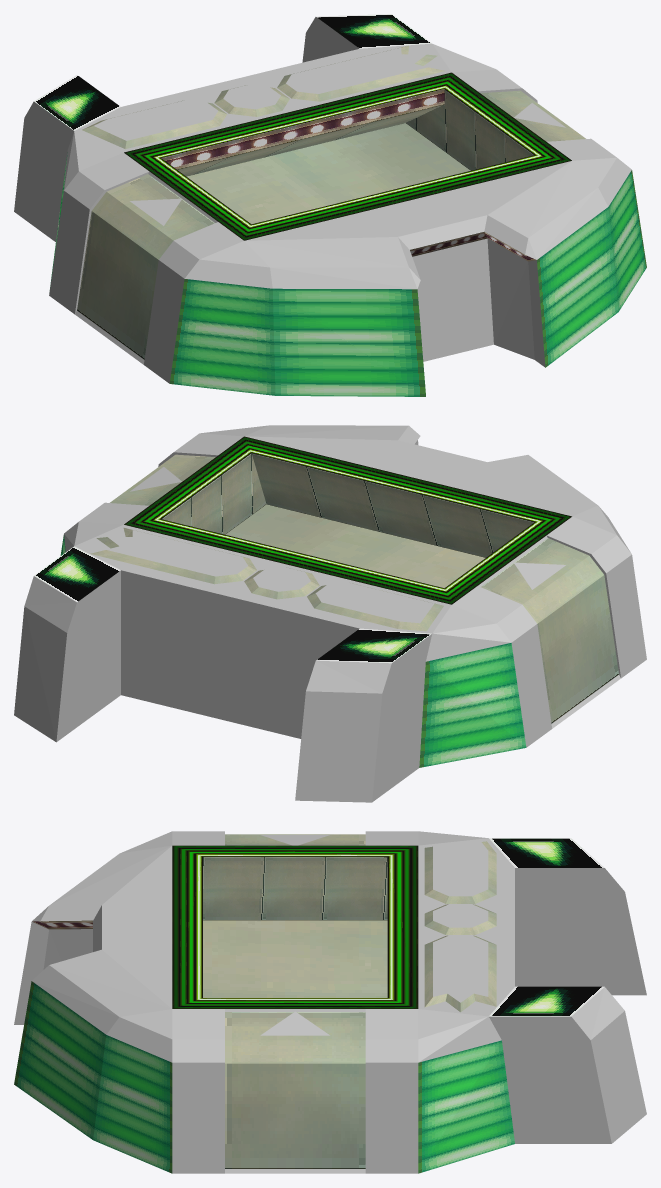
Rendered from slotmachine_off.obj.
3 renders of one model, top to bottom at view 1: azimuth 30°, elevation 25°; view 2: azimuth 150°, elevation 25°; view 3: azimuth 270°, elevation 25°, orthographic. The views are drawn at different scales.
Parts seen in each view (by area): view 1: slot1, slot2, sides_off, jackpot, bet; view 2: slot1, slot2, sides_off, jackpot, bet; view 3: slot1, slot2, sides_off, jackpot, bet.
Part boxes in pixels (<box>): slot1: <box>34,14,646,396</box>; slot2: <box>14,43,631,383</box>; sides_off: <box>77,90,585,359</box>; jackpot: <box>311,47,427,89</box>; bet: <box>94,105,192,140</box>; slot1: <box>34,436,620,767</box>; slot2: <box>14,425,646,802</box>; sides_off: <box>110,454,618,723</box>; jackpot: <box>106,530,221,571</box>; bet: <box>341,587,433,623</box>; slot1: <box>14,835,646,1173</box>; slot2: <box>32,831,646,1173</box>; sides_off: <box>225,834,365,1168</box>; jackpot: <box>433,952,488,1002</box>; bet: <box>433,842,488,879</box>.
Bounding box in the file's own units: 80 × 20.62 × 90.
